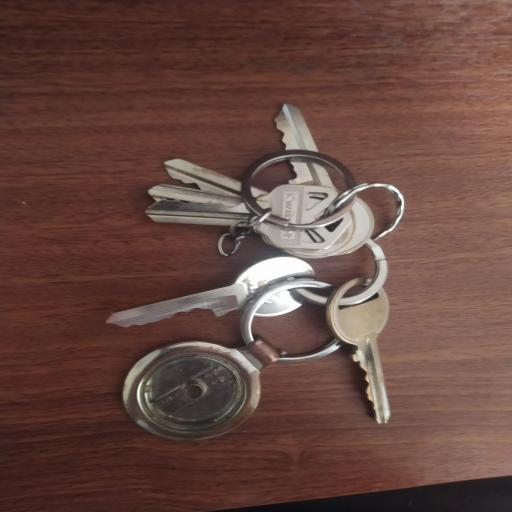Llaves: (100, 95, 410, 448)
